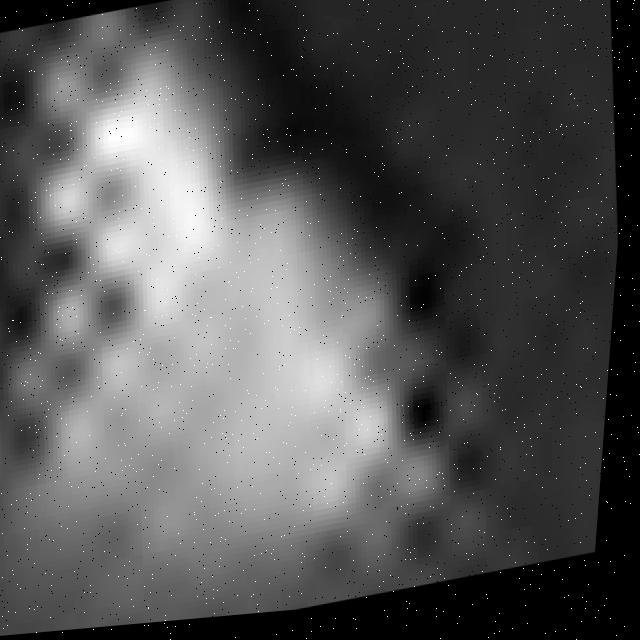person: (1, 1, 493, 640)
